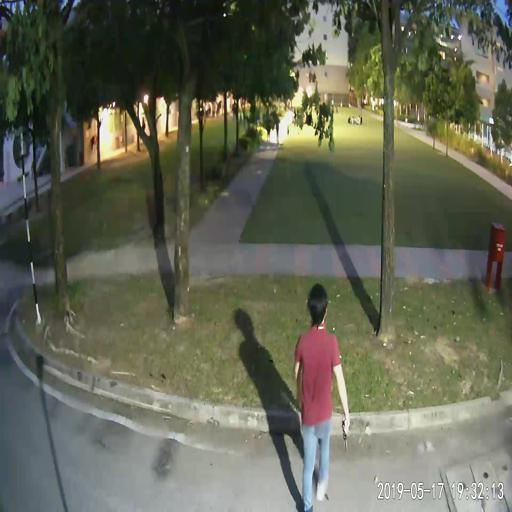Handgun: (341, 415, 348, 449)
